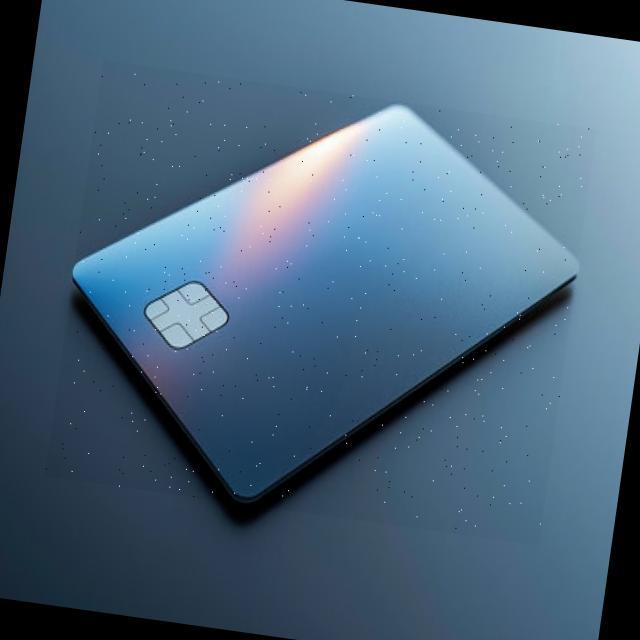payment_card: (70, 101, 580, 504)
